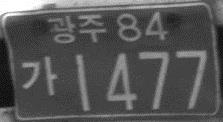1: (74, 52, 91, 113)
4: (104, 52, 138, 111), (144, 11, 167, 42)
7: (173, 48, 209, 111), (136, 49, 170, 113)
8: (116, 11, 141, 41)
가: (20, 54, 58, 97)
광주_O: (46, 12, 107, 45)
